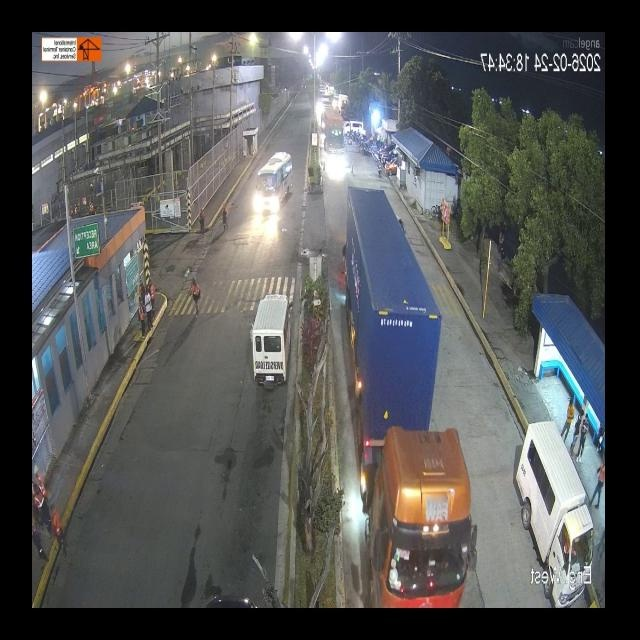bus: (253, 149, 291, 216)
car: (525, 444, 591, 572), (252, 289, 292, 390)
truck: (162, 175, 476, 609), (321, 111, 349, 176)
